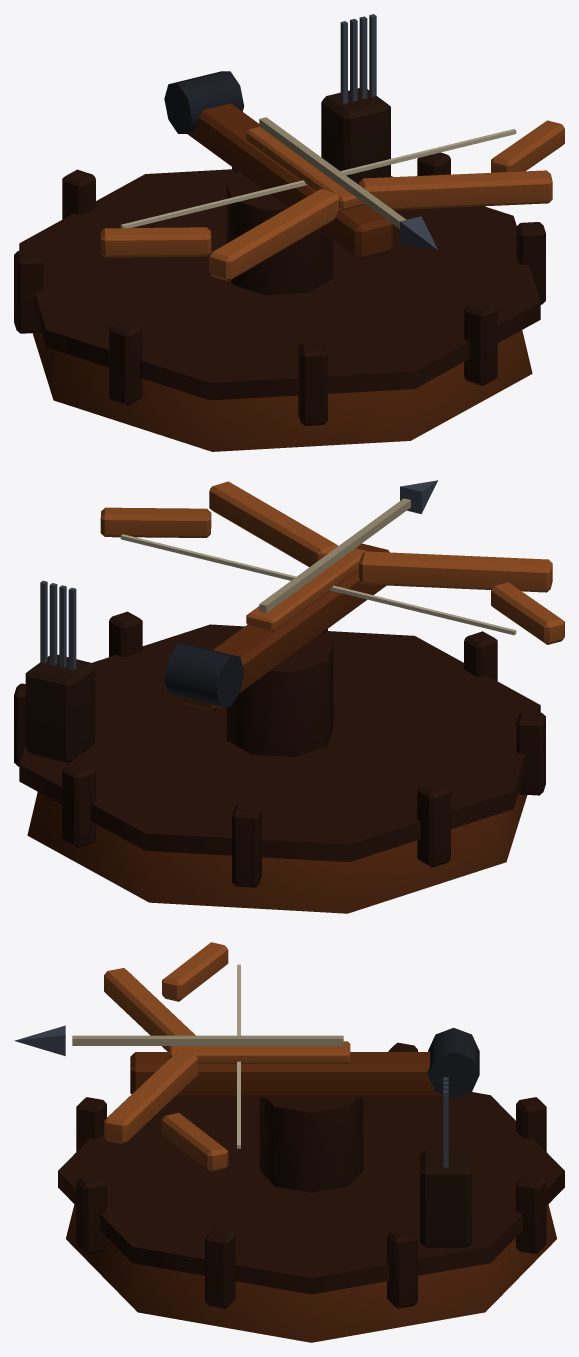
The model's file is b_ballista.glb.
3 views of the same model, one above another, from view 1: azimuth 30°, elevation 25°; view 2: azimuth 150°, elevation 25°; view 3: azimuth 270°, elevation 25° (orthographic). The views are drawn at different scales.
Visible parts, largest first — view 1: ballista_t1_body, ballista_t1__turret; view 2: ballista_t1_body, ballista_t1__turret; view 3: ballista_t1_body, ballista_t1__turret.
Part boxes in pixels (x1,y1,x2,y2): ballista_t1_body: (14,14,545,451); ballista_t1__turret: (100,71,564,281); ballista_t1_body: (14,580,545,913); ballista_t1__turret: (100,480,564,711); ballista_t1_body: (58,1042,564,1342); ballista_t1__turret: (14,942,479,1172).
Size of the model in its own units: 1.96 by 0.95 by 2.13.
